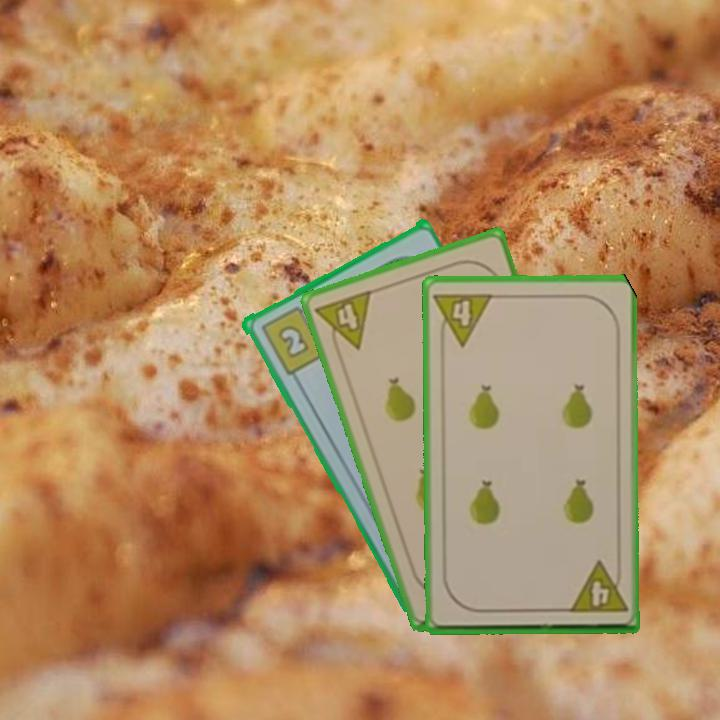2b: (257, 300, 328, 378)
4p: (312, 286, 375, 359), (430, 289, 496, 349), (565, 558, 630, 616)
